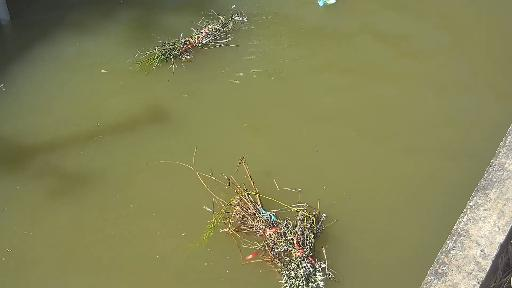plastic: (307, 0, 341, 10)
twig: (174, 146, 334, 288), (122, 8, 246, 82)
